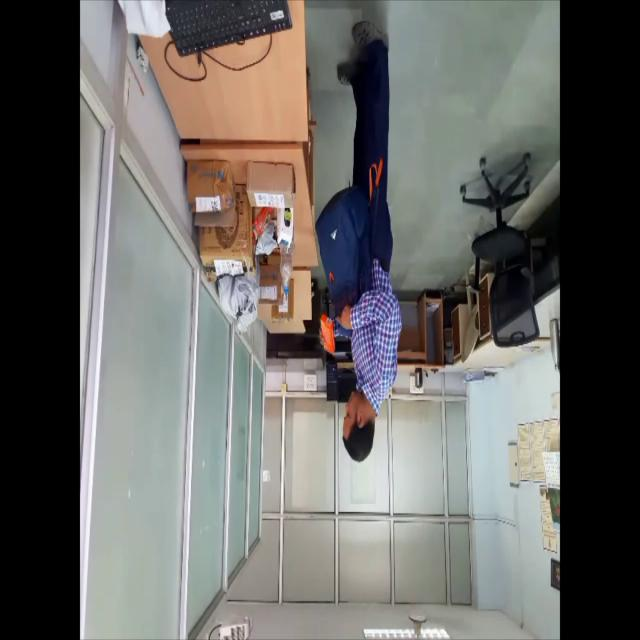shoplifting: (309, 5, 406, 478)
